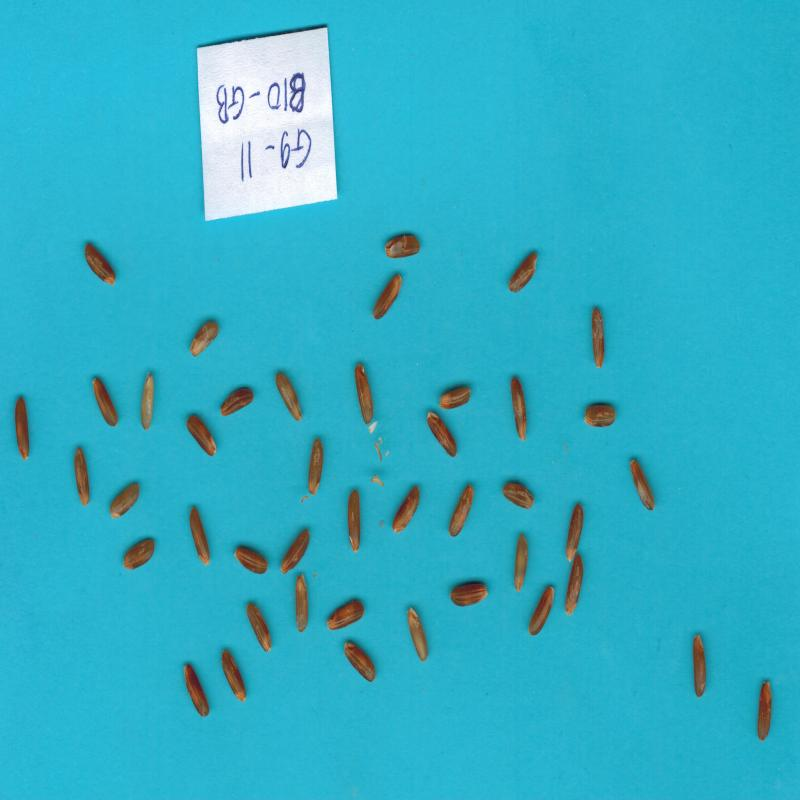Rice: (427, 411, 457, 457), (448, 484, 474, 536), (392, 486, 420, 534), (184, 664, 209, 717), (373, 274, 402, 319), (276, 373, 303, 421), (85, 243, 115, 286), (92, 378, 118, 427), (281, 529, 309, 574), (630, 460, 655, 510), (529, 586, 554, 636), (222, 650, 246, 702), (246, 604, 271, 652), (344, 643, 375, 681), (187, 416, 216, 456), (190, 507, 210, 565), (355, 363, 373, 425), (327, 600, 364, 630), (407, 607, 427, 662), (565, 554, 583, 615), (509, 253, 537, 292), (566, 503, 584, 561), (110, 483, 139, 518), (190, 322, 219, 357), (220, 388, 254, 417), (124, 539, 155, 570), (511, 377, 526, 441), (15, 397, 29, 460), (450, 584, 488, 607), (235, 548, 268, 574), (75, 447, 89, 507), (758, 681, 772, 741), (503, 483, 535, 509), (693, 635, 706, 698), (385, 235, 420, 258), (309, 438, 323, 495), (348, 490, 360, 553), (514, 534, 527, 592), (141, 373, 154, 430), (439, 387, 471, 410), (592, 308, 604, 368), (296, 574, 308, 632), (585, 406, 616, 427)
